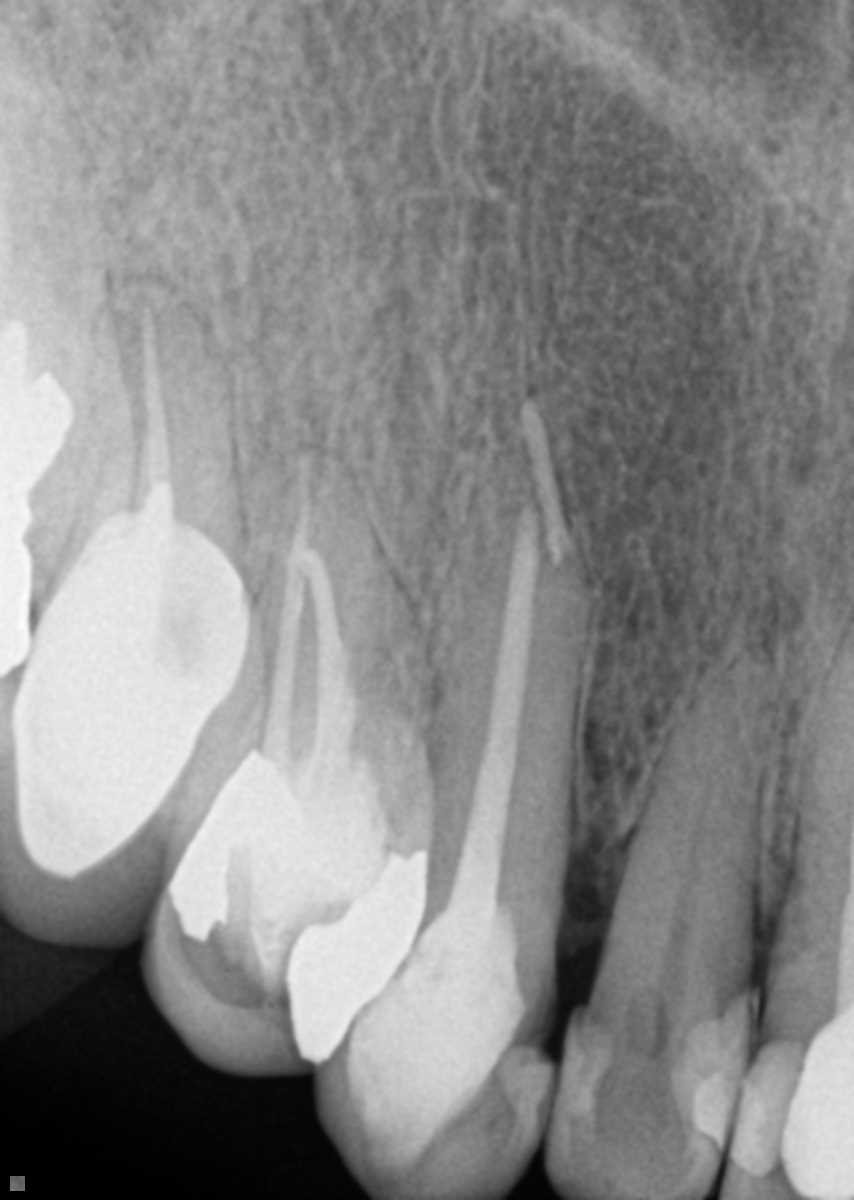Main Canal: (648, 704, 745, 998)
Main Root: (398, 389, 598, 968), (194, 445, 434, 892), (584, 639, 777, 1004), (78, 276, 244, 533), (763, 606, 854, 987)
Root Canal Filling: (441, 511, 536, 907), (263, 472, 311, 768), (297, 551, 354, 787), (132, 305, 179, 515), (521, 400, 575, 559)
